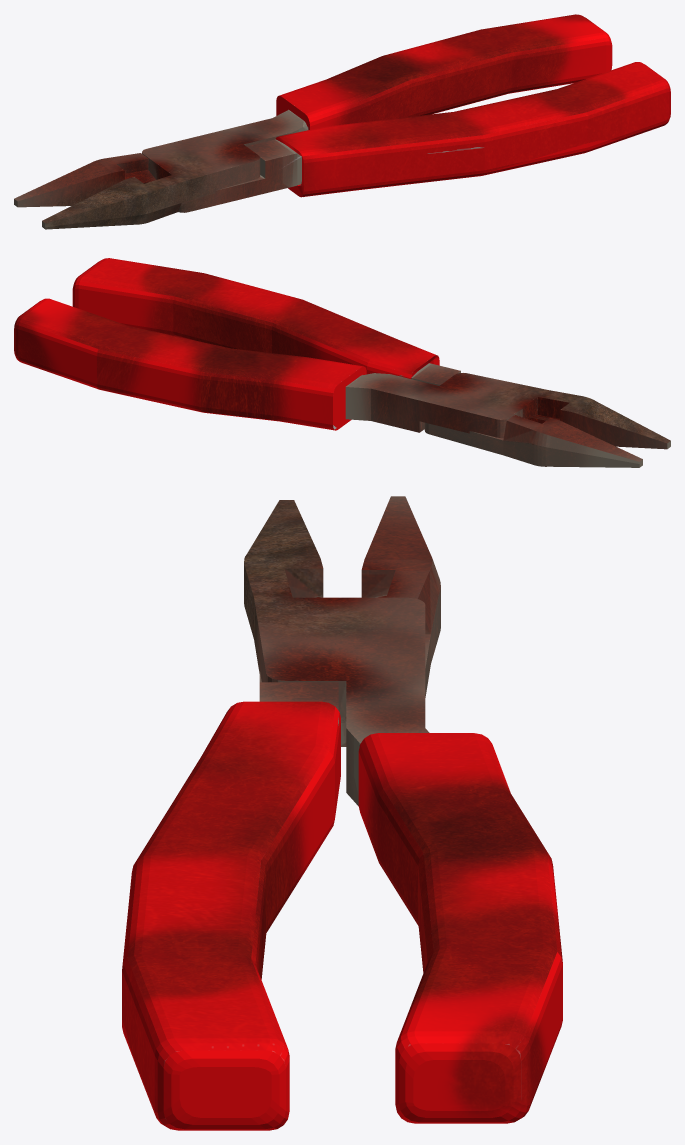
Rendered from TP - PINZA -V2.fbx.
The picture shows the model from 3 angles, top to bottom: view 1: azimuth 30°, elevation 25°; view 2: azimuth 150°, elevation 25°; view 3: azimuth 270°, elevation 25°; orthographic projection. The views are drawn at different scales.
Visible parts, largest first — view 1: Cube; view 2: Cube; view 3: Cube.
Boxes of the visible parts, x1=… form: Cube: x1=14, y1=14, x2=670, y2=229; Cube: x1=14, y1=258, x2=670, y2=467; Cube: x1=122, y1=496, x2=562, y2=1130.
Size of the model in its own units: 1750 by 136 by 558.
1 material, 1 textured.
